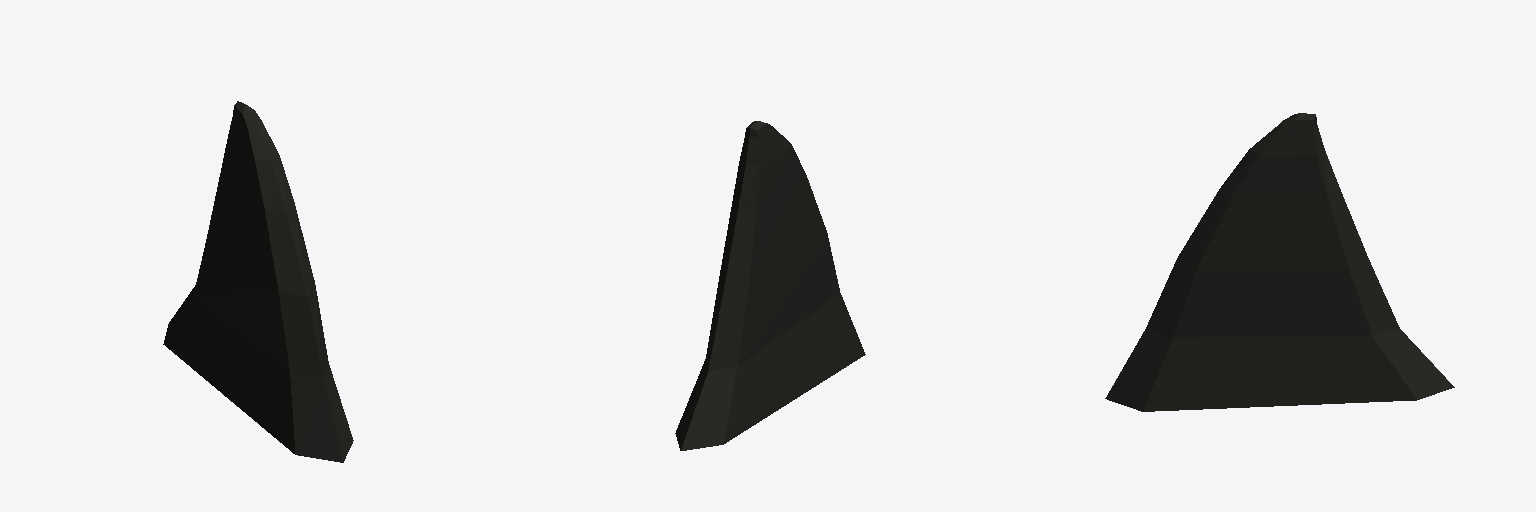
File: Mesh_SharkFin.obj
The picture shows the model from 3 angles: view 1: azimuth 30°, elevation 25°; view 2: azimuth 150°, elevation 25°; view 3: azimuth 270°, elevation 25°; orthographic projection.
Visible parts, largest first — view 1: Geo_SharkFin; view 2: Geo_SharkFin; view 3: Geo_SharkFin.
Boxes of the visible parts, box(x1,y1,x2,y2) form: Geo_SharkFin: box(163, 101, 353, 462); Geo_SharkFin: box(675, 121, 865, 450); Geo_SharkFin: box(1105, 113, 1454, 411).
Bounding box in the file's own units: 13.33 × 62.43 × 69.17.